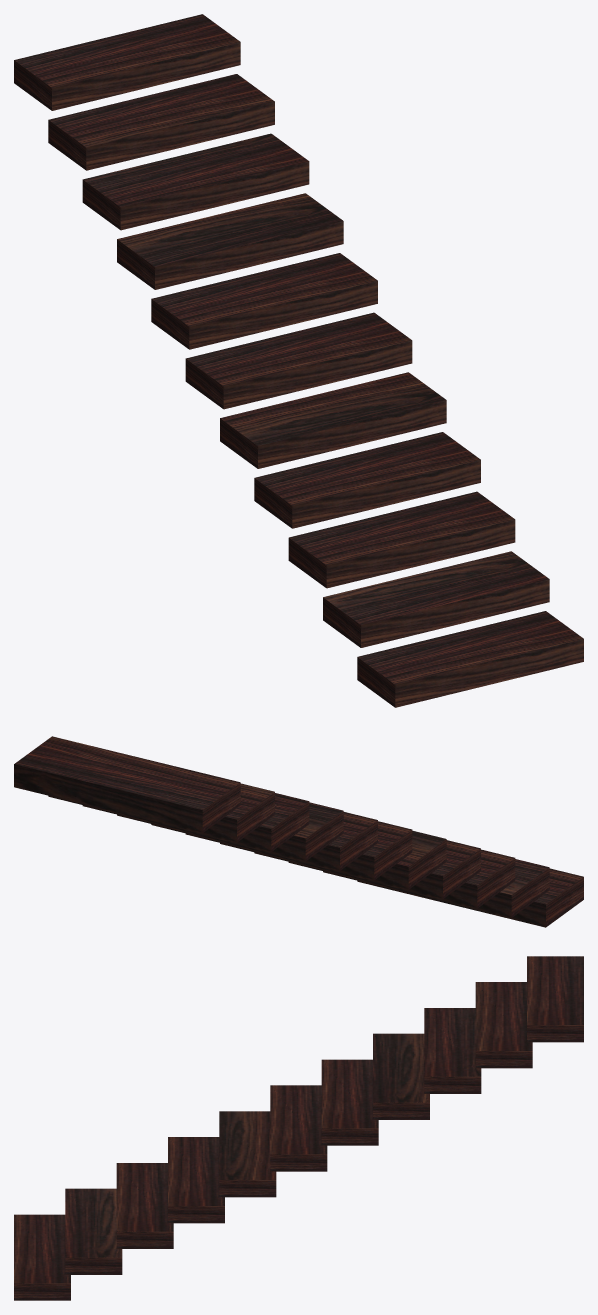
Rendered from Stairs.fbx.
The picture shows the model from 3 angles, top to bottom: view 1: azimuth 30°, elevation 25°; view 2: azimuth 150°, elevation 25°; view 3: azimuth 270°, elevation 25°; orthographic projection. The views are drawn at different scales.
Parts seen in each view (by area): view 1: Stairs; view 2: Stairs; view 3: Stairs.
Part boxes in pixels (<box>): Stairs: <box>14,14,583,707</box>; Stairs: <box>14,736,583,927</box>; Stairs: <box>14,956,583,1300</box>.
Size of the model in its own units: 1.2 by 2.24 by 4.2.
